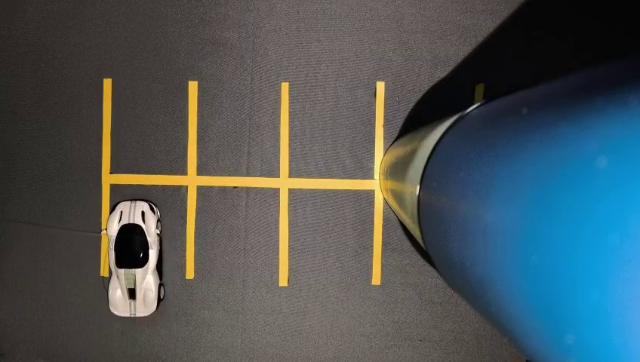toy_car: (89, 170, 186, 346)
